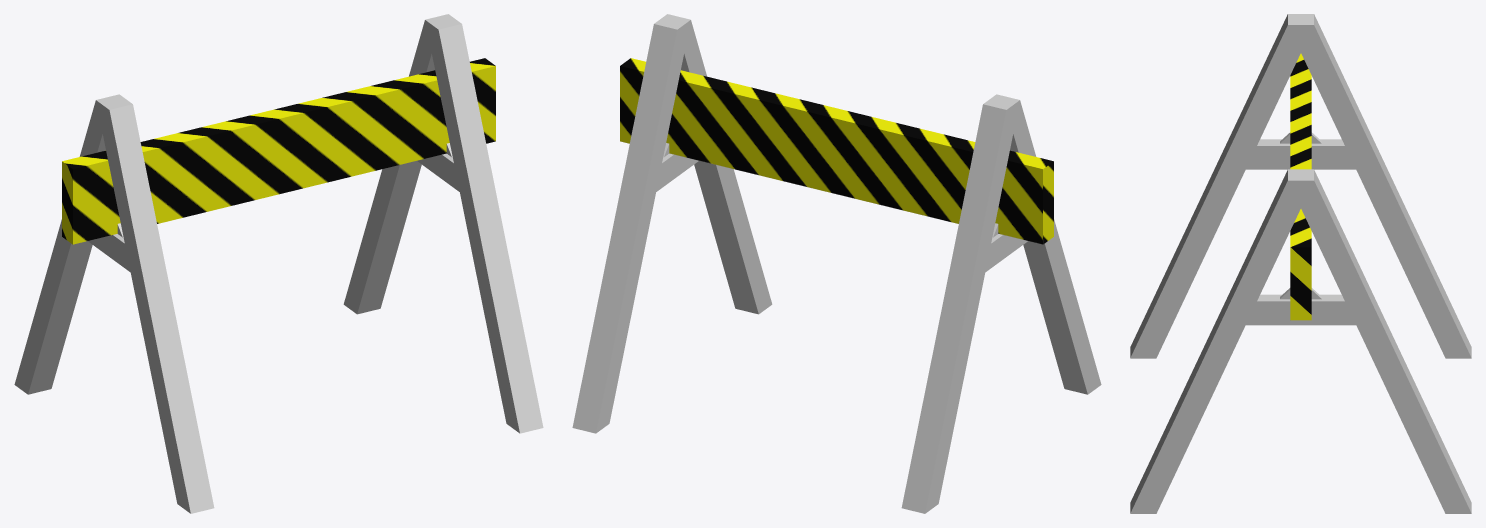
File: Barrier_1-1.fbx
3 views of the same model, side by side, from view 1: azimuth 30°, elevation 25°; view 2: azimuth 150°, elevation 25°; view 3: azimuth 270°, elevation 25° (orthographic). The views are drawn at different scales.
Parts seen in each view (by area): view 1: Barrier_1-1; view 2: Barrier_1-1; view 3: Barrier_1-1.
Part boxes in pixels (box(x1,y1,x2,y2)): Barrier_1-1: box(14, 14, 543, 513); Barrier_1-1: box(572, 14, 1101, 513); Barrier_1-1: box(1130, 14, 1471, 513).
Size of the model in its own units: 90 by 70 by 65.
Materials: 2 (1 with a texture image).
